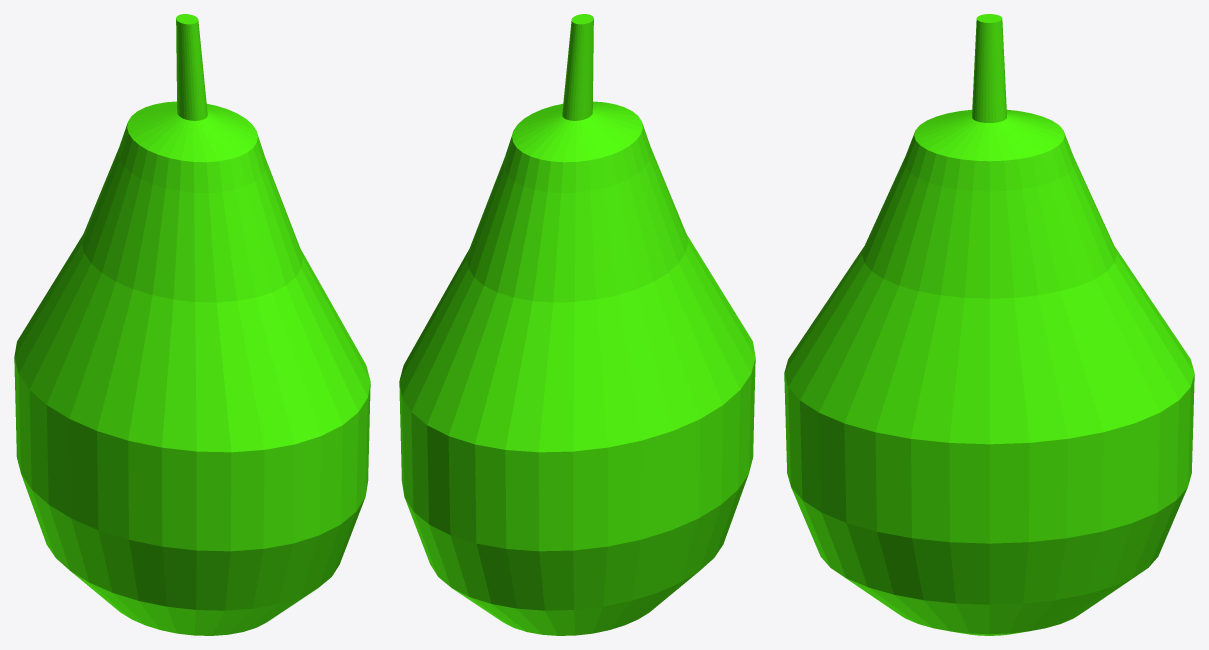
Rendered from Pear.fbx.
3 renders of one model, left to right at view 1: azimuth 30°, elevation 25°; view 2: azimuth 150°, elevation 25°; view 3: azimuth 270°, elevation 25°, orthographic.
Parts seen in each view (by area): view 1: Pear.001; view 2: Pear.001; view 3: Pear.001.
Part boxes in pixels (<box>): Pear.001: <box>14,14,370,635</box>; Pear.001: <box>399,14,755,635</box>; Pear.001: <box>784,14,1194,635</box>.
Size of the model in its own units: 20.44 by 39.94 by 24.88.
